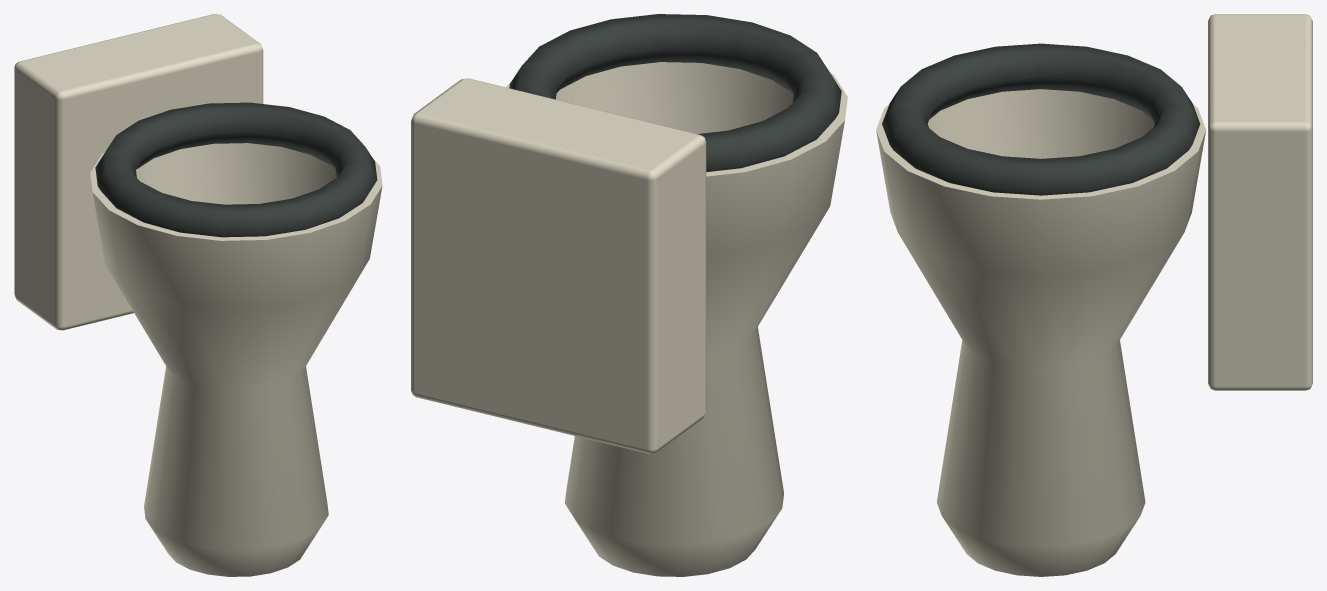
The model's file is roadside-survival-stops-restroom-toilet-c760a88a__23553.glb.
3 renders of one model, left to right at view 1: azimuth 30°, elevation 25°; view 2: azimuth 150°, elevation 25°; view 3: azimuth 270°, elevation 25°, orthographic. The views are drawn at different scales.
Visible parts, largest first — view 1: restroom-toilet; view 2: restroom-toilet; view 3: restroom-toilet.
Part boxes in pixels (x1=…): restroom-toilet: x1=14, y1=14, x2=382, y2=576; restroom-toilet: x1=411, y1=14, x2=847, y2=576; restroom-toilet: x1=876, y1=14, x2=1312, y2=576.
Bounding box in the file's own units: 0.506 × 0.805 × 0.6695.
